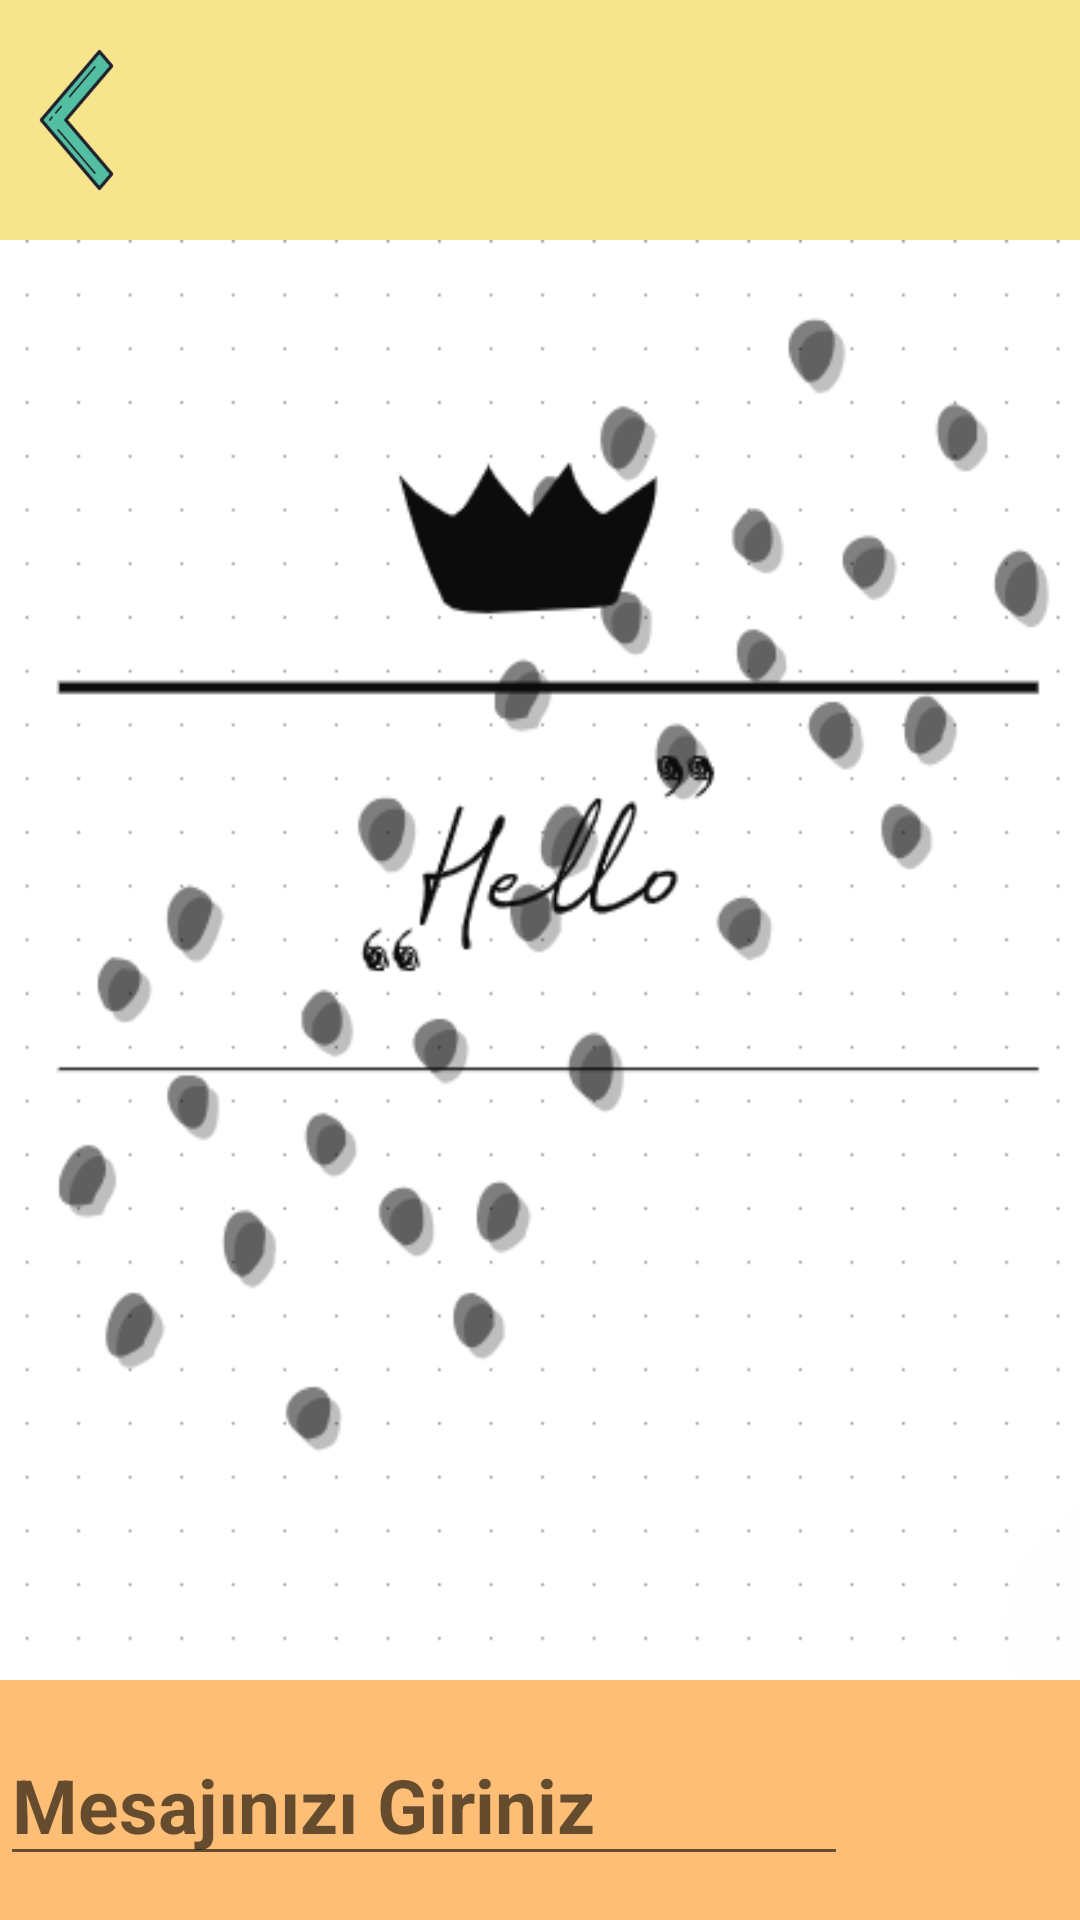

Screen size 1080px×1920px. Icon name, then its box in pixels as (x1, y1, x2, y2):
back: (39, 49, 114, 191)
